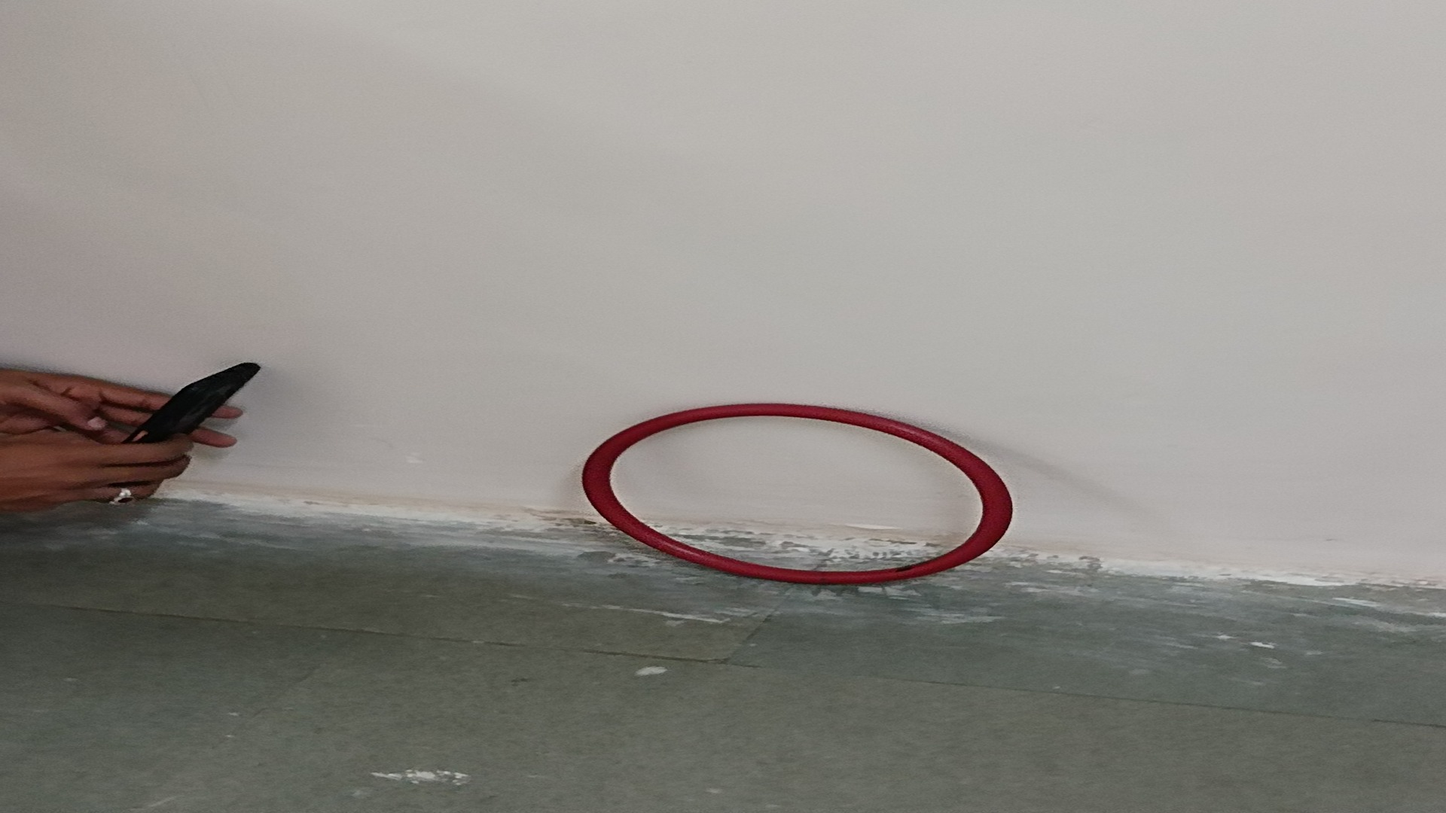Red ring: (580, 403, 1014, 583)
